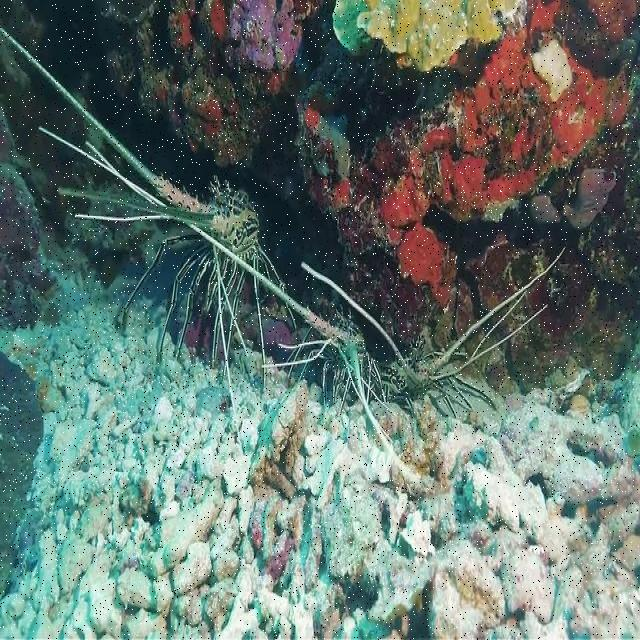reefs: (87, 125, 286, 381), (290, 297, 373, 414), (377, 336, 467, 422)
